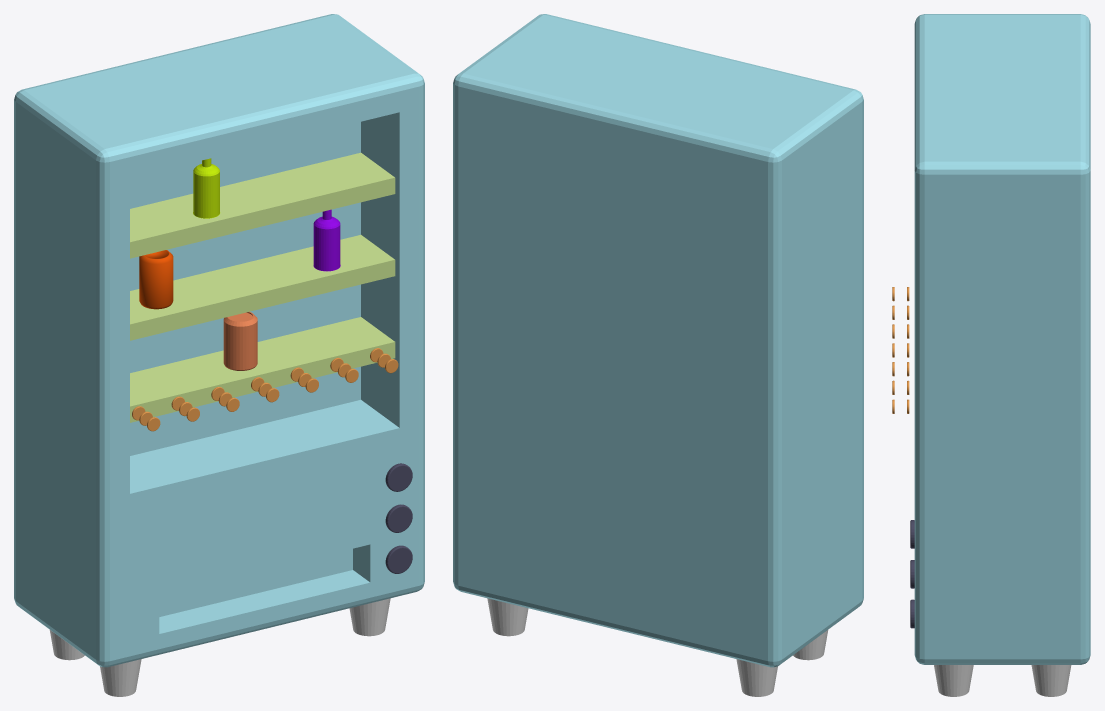
File: Vending_Machine.fbx
3 renders of one model, left to right at view 1: azimuth 30°, elevation 25°; view 2: azimuth 150°, elevation 25°; view 3: azimuth 270°, elevation 25°, orthographic. The views are drawn at different scales.
Parts seen in each view (by area): view 1: Machine, Cube.002, Cube.001, Cube, Circle.003, Feet, Circle.005, Circle.004, Circle.006, Circle.007; view 2: Machine, Feet; view 3: Machine, Feet, Circle.003.
Part boxes in pixels (x1,y1,x2,y2): Machine: (14, 14, 424, 667); Cube.002: (130, 152, 395, 258); Cube.001: (130, 235, 395, 340); Cube: (130, 317, 395, 422); Circle.003: (132, 348, 398, 431); Feet: (49, 598, 390, 696); Circle.005: (139, 250, 173, 309); Circle.004: (223, 311, 257, 370); Circle.006: (313, 209, 340, 271); Circle.007: (193, 158, 220, 218); Machine: (453, 14, 863, 667); Feet: (487, 598, 828, 696); Machine: (914, 14, 1090, 664); Feet: (934, 665, 1071, 696); Circle.003: (892, 287, 909, 413).
Bounding box in the file's own units: 4.17 × 6.81 × 2.25.
